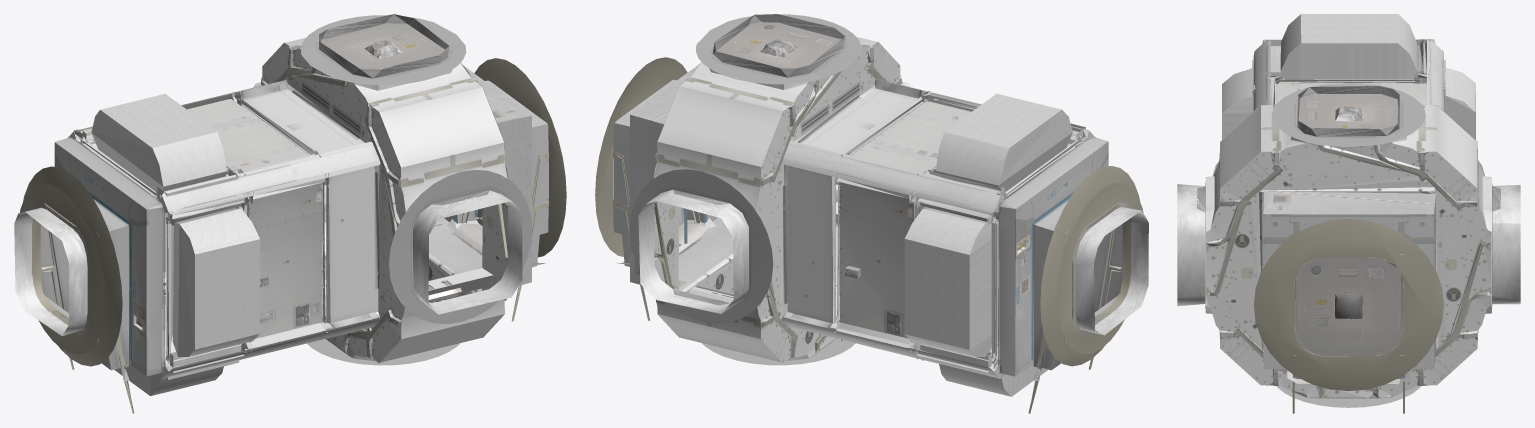
3 renders of one model, left to right at view 1: azimuth 30°, elevation 25°; view 2: azimuth 150°, elevation 25°; view 3: azimuth 270°, elevation 25°, orthographic. The views are drawn at different scales.
Parts seen in each view (by area): view 1: Node2_Int_Hub_ZNH; view 2: Node2_Int_Hub_ZNH; view 3: Node2_Int_Hub_ZNH.
Part boxes in pixels (x1,y1,x2,y2): Node2_Int_Hub_ZNH: [14, 14, 566, 413]; Node2_Int_Hub_ZNH: [595, 14, 1148, 413]; Node2_Int_Hub_ZNH: [1177, 14, 1520, 413].
Size of the model in its own units: 5.72 by 3.78 by 3.33.
6 materials, 6 textured.
